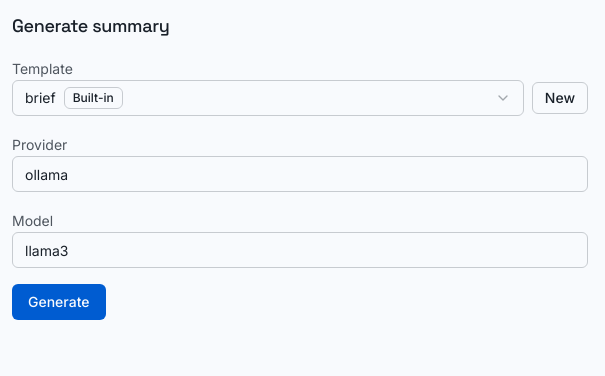
Test: SummaryTab › shows an error when generation fails
Click the button "Generate": (59, 302) [12, 284, 106, 320]
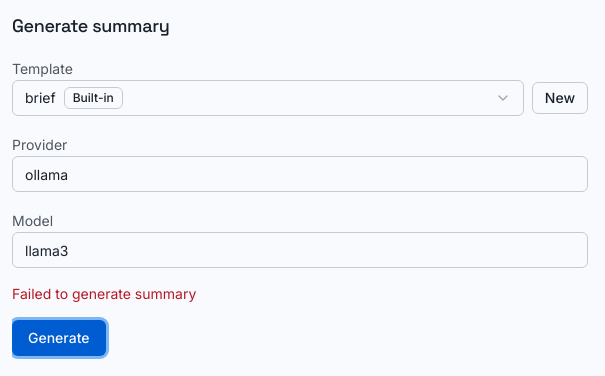
Expected: the text "Failed to generate summary" is shown, [12, 285, 196, 302]
